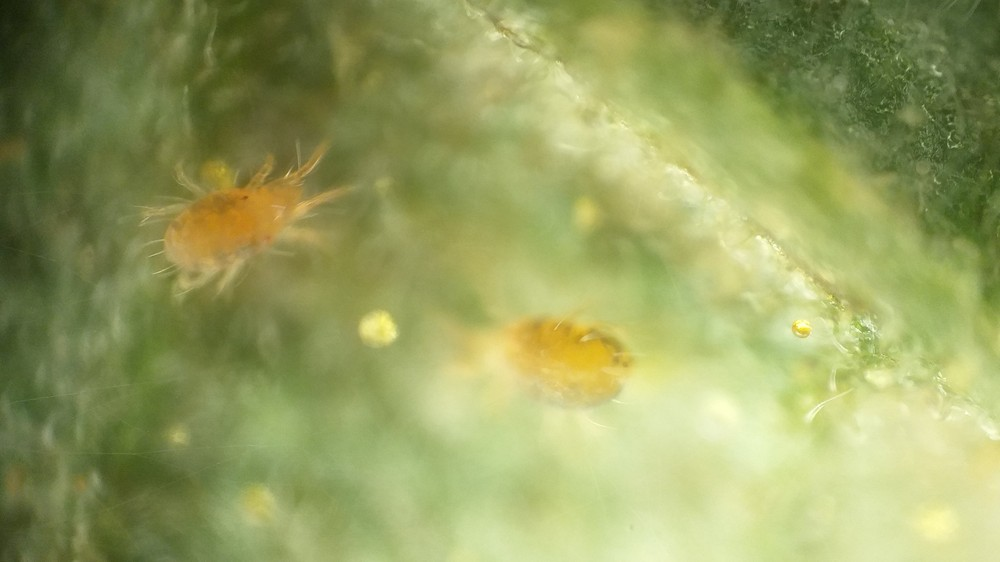Aracnido Rojo: (128, 121, 384, 304), (421, 275, 656, 462)
